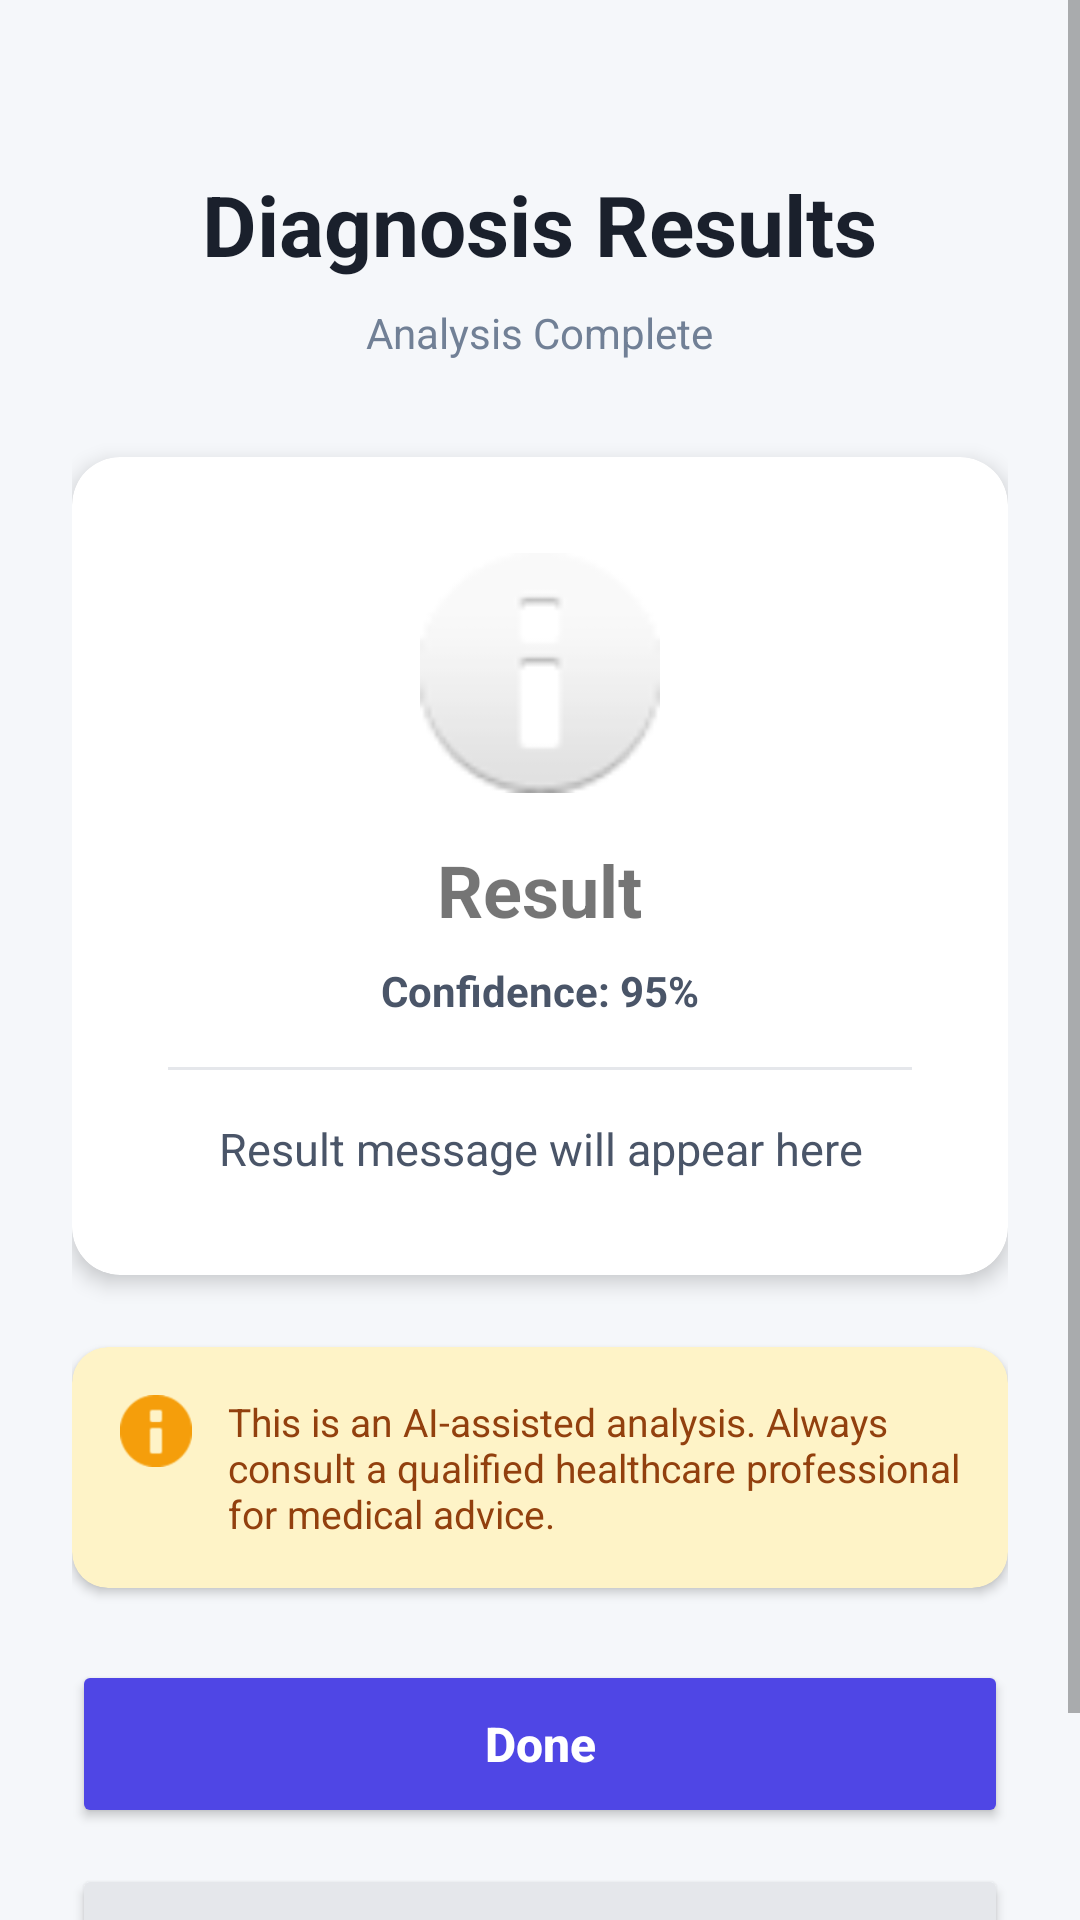

Icon bounding boxes for this 1080px×1920px phone screenshot, format (left=x1, top=y1, right=x2, bottom=y2):
Info icon: (left=120, top=1395, right=192, bottom=1467)
